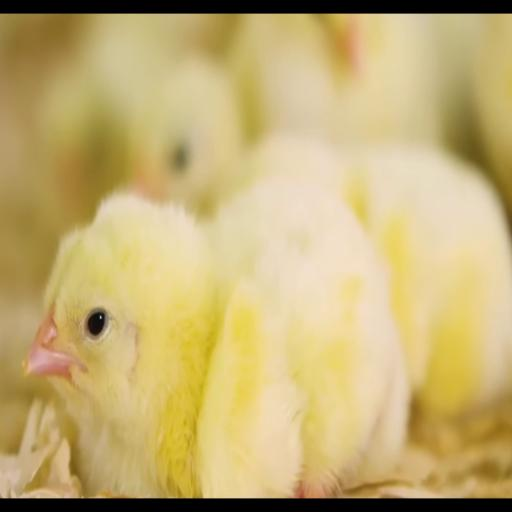chick: (26, 179, 408, 497), (131, 55, 244, 216)
